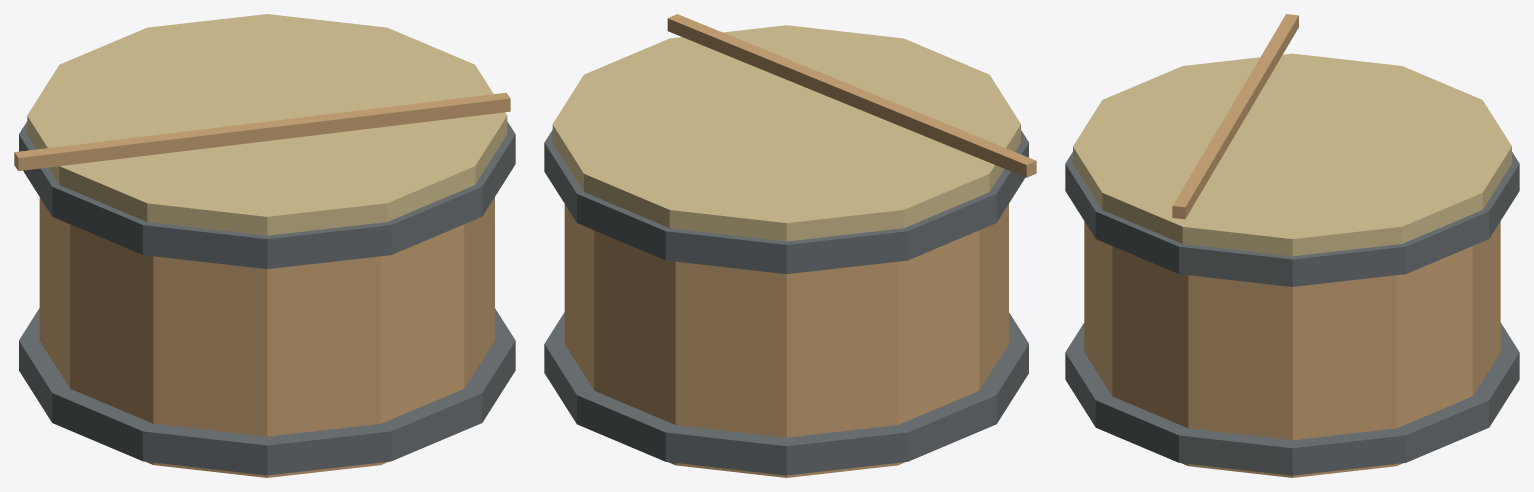
File: war-drum.glb
3 renders of one model, left to right at view 1: azimuth 30°, elevation 25°; view 2: azimuth 150°, elevation 25°; view 3: azimuth 270°, elevation 25°, orthographic. The views are drawn at different scales.
Visible parts, largest first — view 1: war-drum; view 2: war-drum; view 3: war-drum.
Part boxes in pixels (x1,y1,x2,y2): war-drum: (14,14,515,477); war-drum: (544,14,1036,477); war-drum: (1065,14,1519,477).
Size of the model in its own units: 1.3 by 0.7675 by 1.2.
